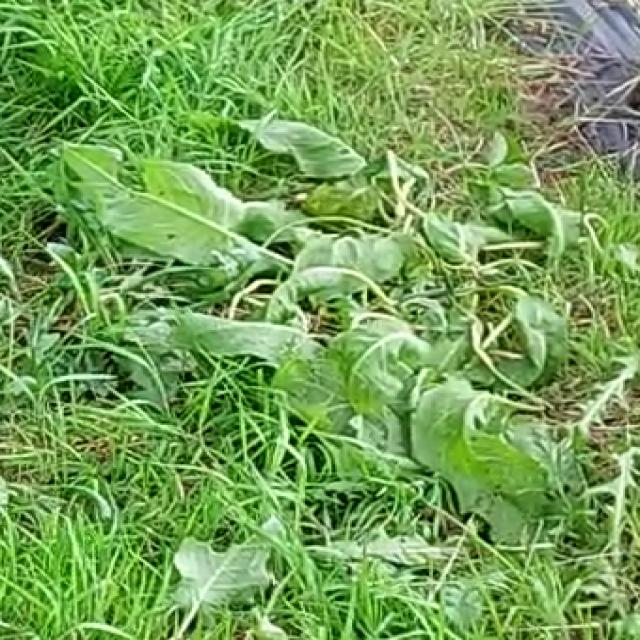organic waste: (75, 95, 616, 494)
